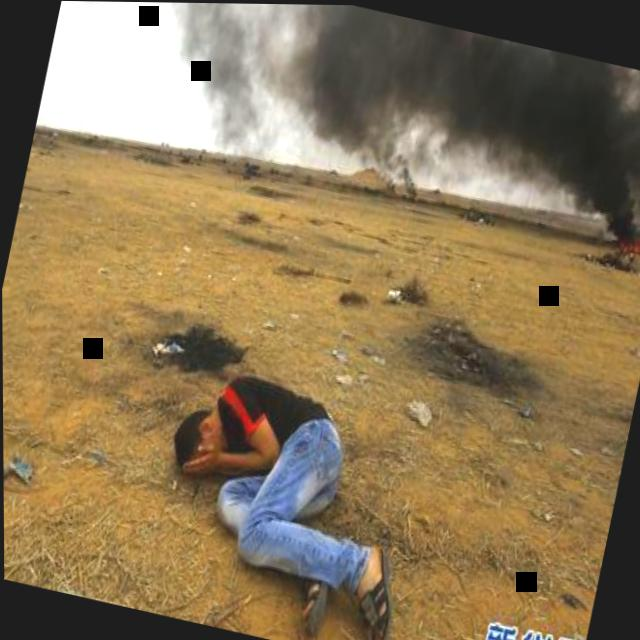Fall-Detected: (120, 341, 443, 640)
